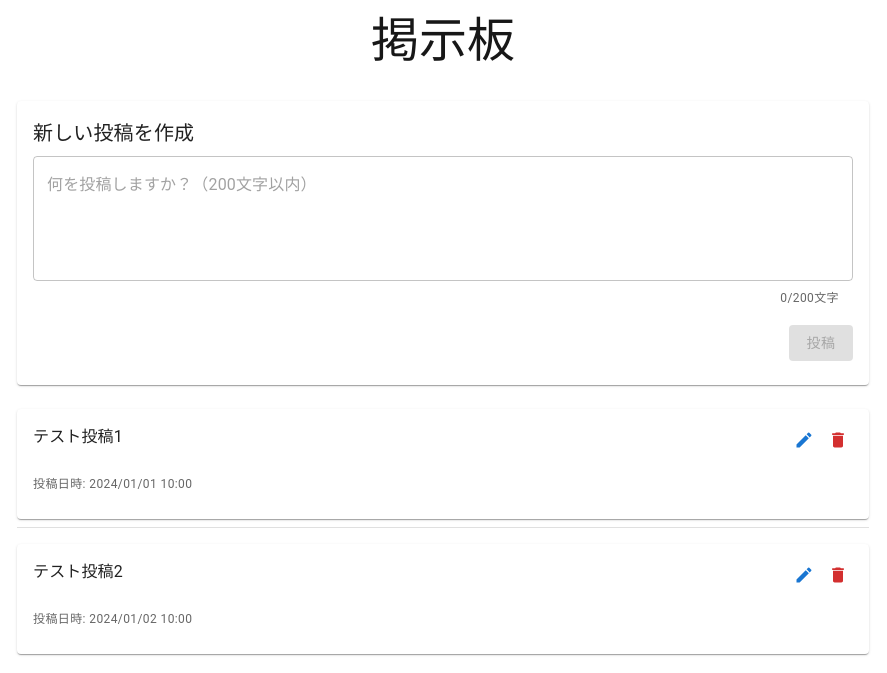
BoardApp › 投稿の編集 › 編集をキャンセルできる
Expected: the text "テスト投稿1" is shown, [33,427,123,446]
# 編集モードに入る
Click the button with test id "EditIcon".
click(804, 440)  # box [789,425,819,455]
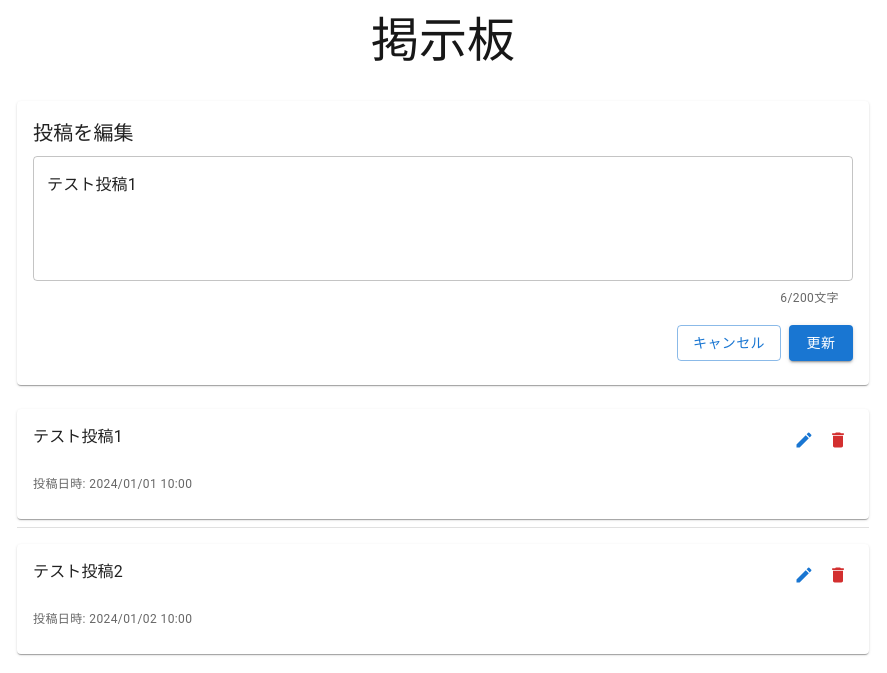
# キャンセルボタンをクリック
Click the button "キャンセル".
click(729, 343)  # box [677,325,781,361]
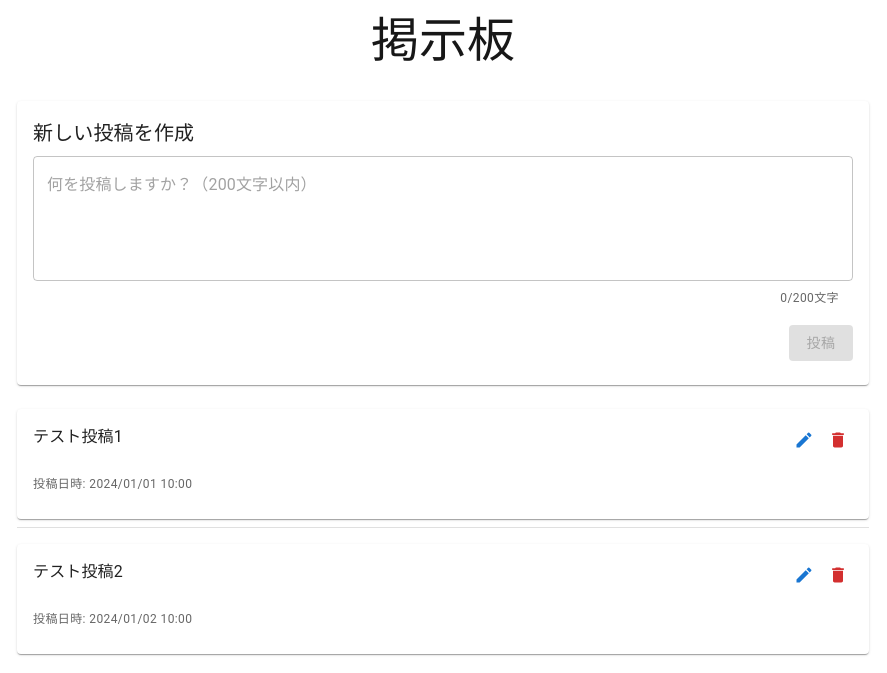
Expected: the heading "新しい投稿を作成" is shown, [33,121,194,145]
